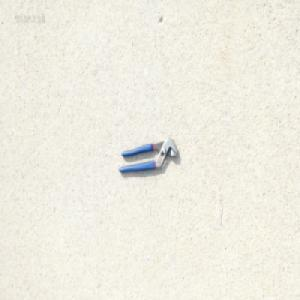Pliers: (117, 135, 177, 173)
